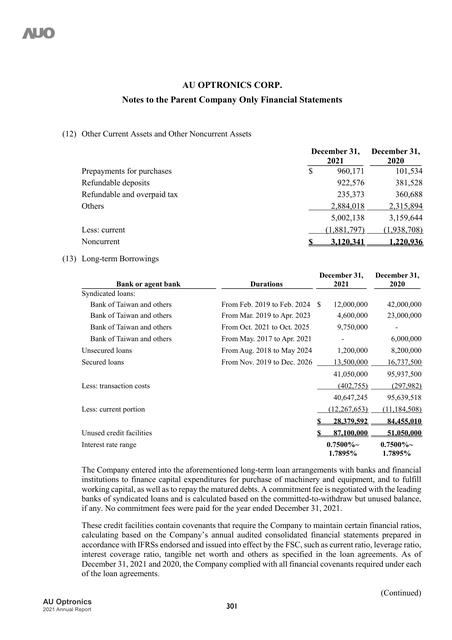box: (80, 271, 426, 459), (81, 147, 426, 250)
